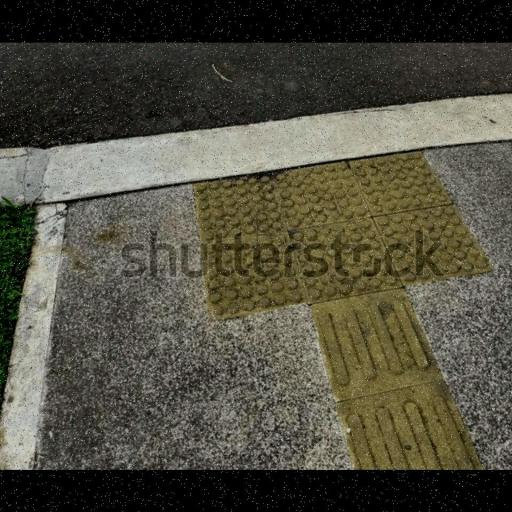line: (305, 291, 445, 399), (339, 382, 486, 470)
